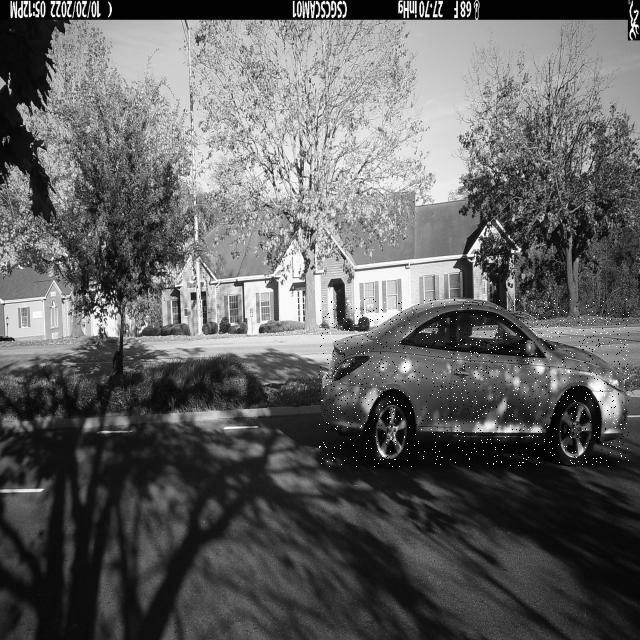Sedan: (319, 299, 629, 467)
